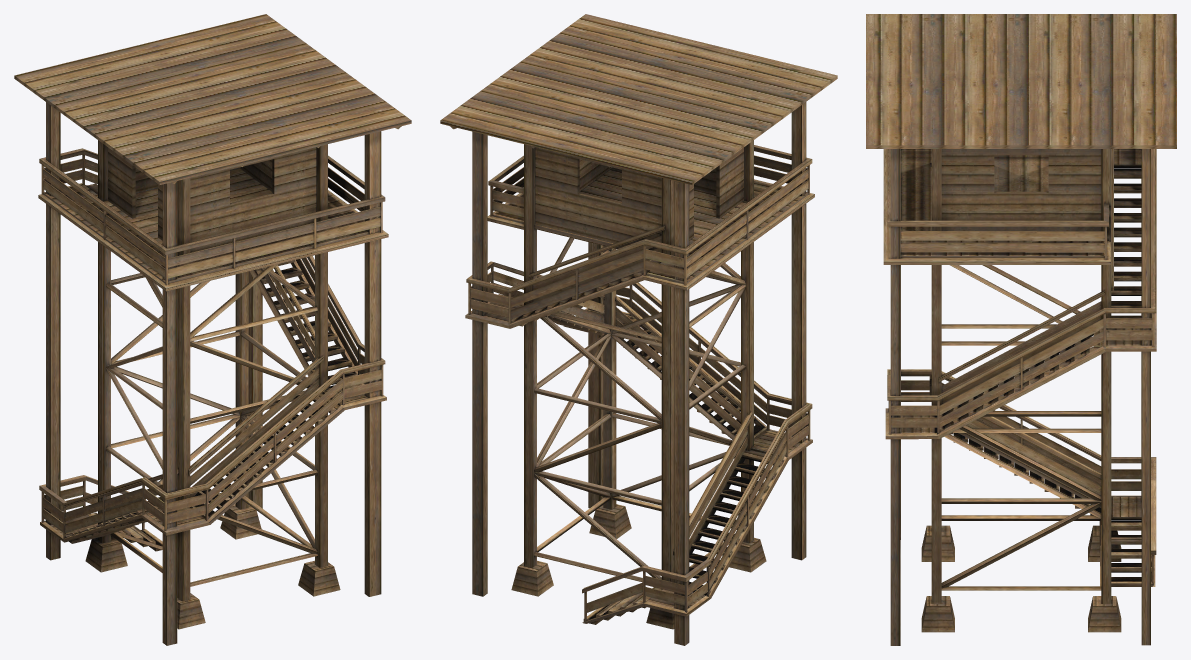
File: torre.FBX
3 views of the same model, side by side, from view 1: azimuth 30°, elevation 25°; view 2: azimuth 150°, elevation 25°; view 3: azimuth 270°, elevation 25° (orthographic). The views are drawn at different scales.
Visible parts, largest first — view 1: watchtowerHigh; view 2: watchtowerHigh; view 3: watchtowerHigh.
Part boxes in pixels (left/top/right/bottom): watchtowerHigh: left=14, top=14, right=411, bottom=645; watchtowerHigh: left=440, top=14, right=837, bottom=645; watchtowerHigh: left=866, top=14, right=1176, bottom=645.
Size of the model in its own units: 422 by 765 by 422.
Materials: 1 (1 with a texture image).
